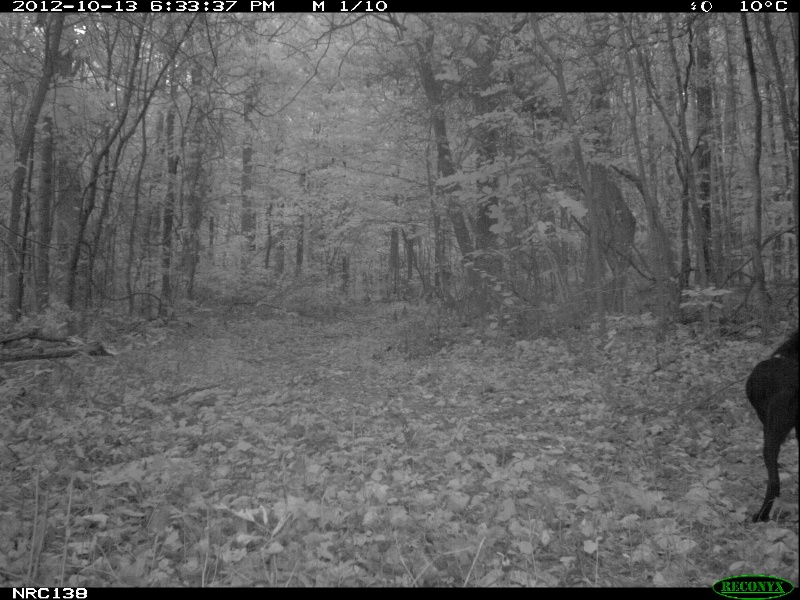dog: (743, 328, 800, 521)
